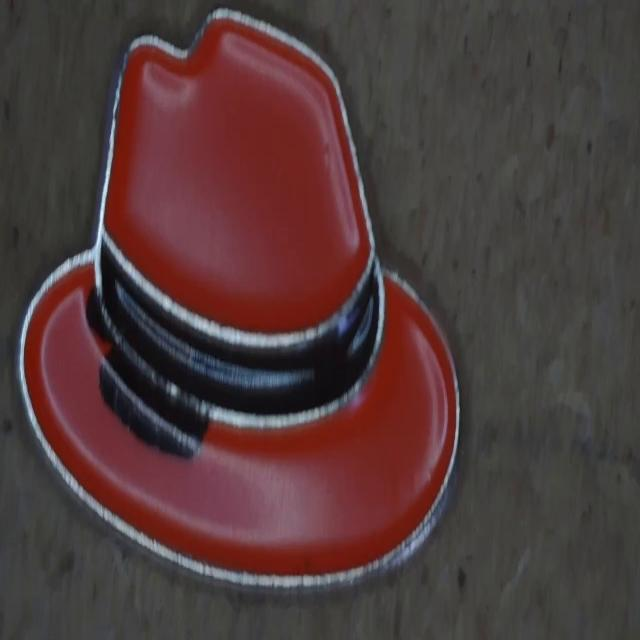Hatband: (101, 242, 382, 413)
Paint_Leak: (95, 299, 209, 457)
RedHatPin: (19, 11, 459, 586)
